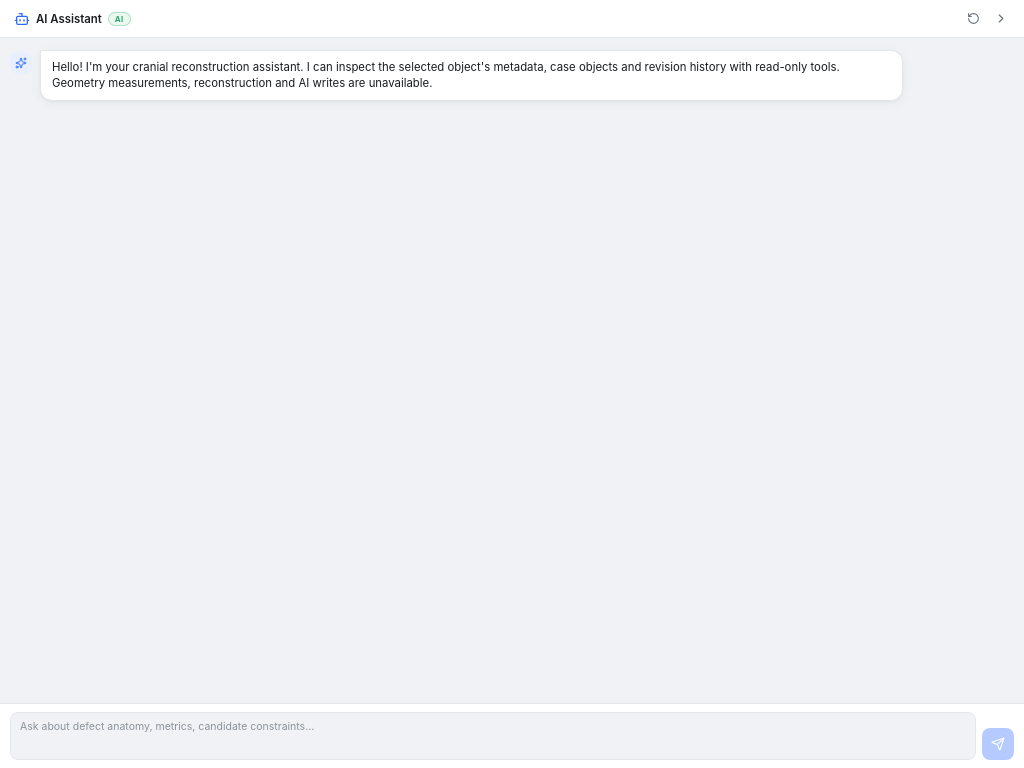
Test: AiChatPanel Gemini FastAPI integration › shows the Bedrock badge when the backend reports the Bedrock provider
In the text box named "Message for AI assistant": (493, 736) [10,712,976,760], type "Which model?"
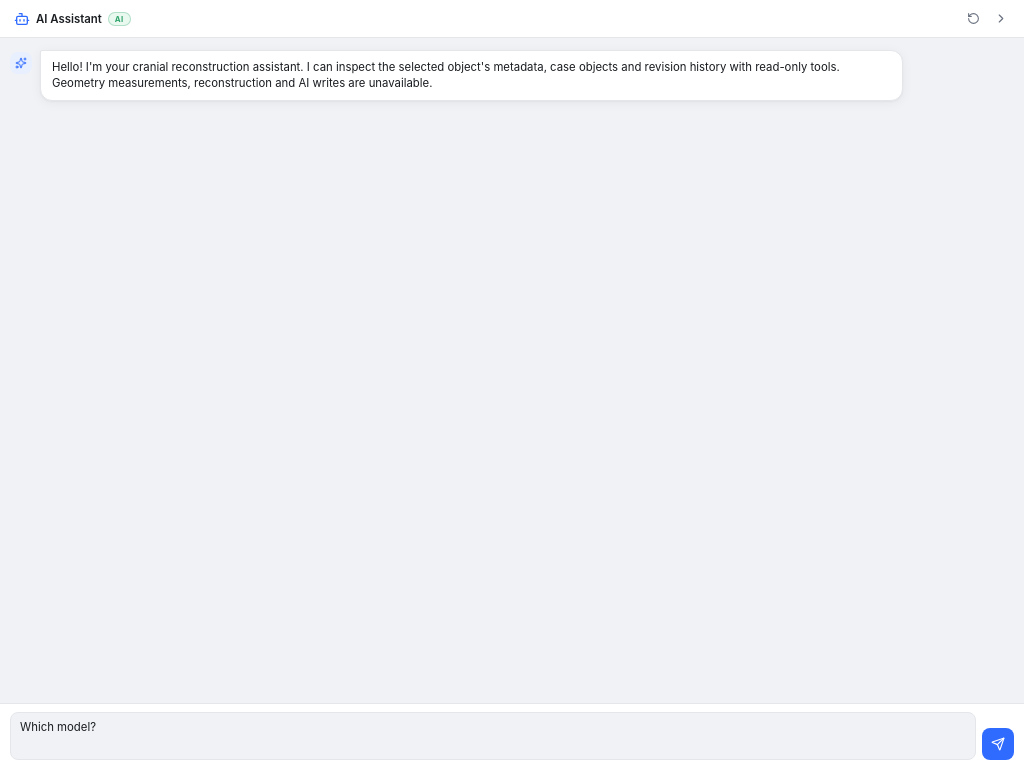
Click the button named "Send message to AI assistant": (998, 744) [982,728,1014,760]
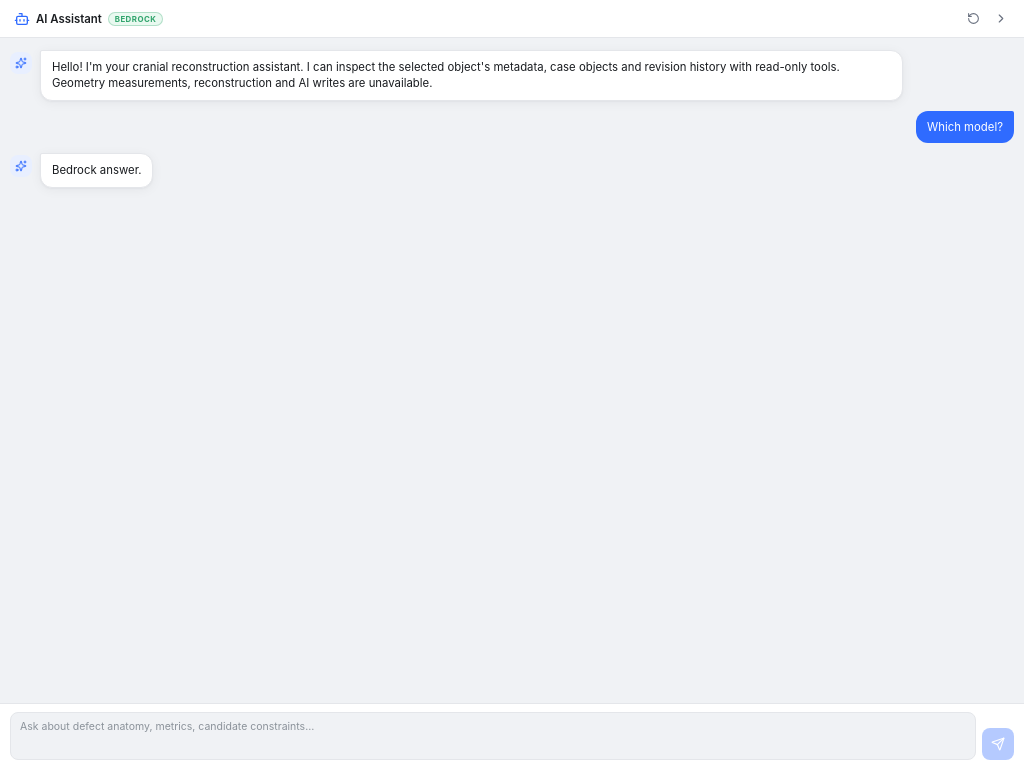
Result: the text "Bedrock answer." is shown at [52,164,142,178]
Result: the text "Bedrock" is shown at [108,12,163,26]
